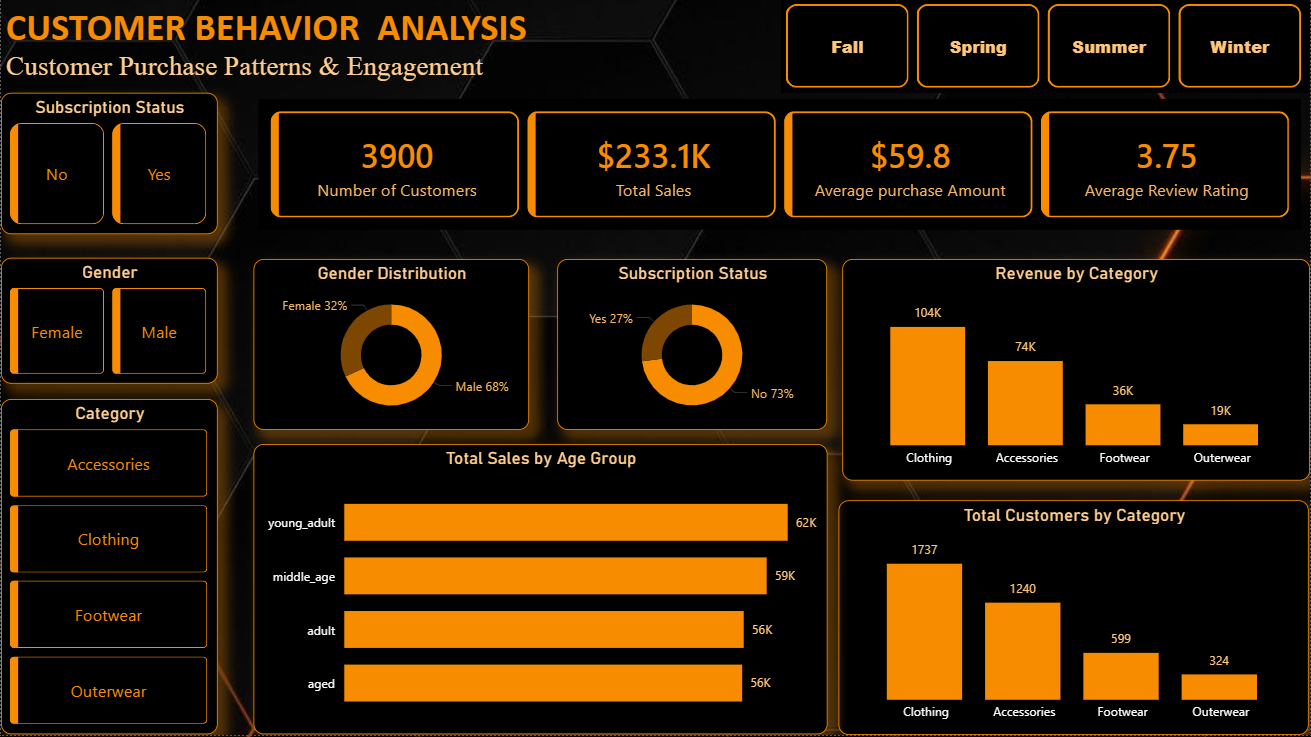

Layout of this report page (visuals, bound fields, positions):
{"tool":"powerbi","page":{"name":"Page 1","canvas":[1280,720],"ordinal":0},"visuals":[{"type":"shape","box":[0,0,533.3,91.7],"z":0},{"type":"textbox","box":[0,0,534,92],"z":1000},{"type":"cardVisual","fields":{"Data":["customer_behavior customer.Number of Customers","customer_behavior customer.Total Sales","customer_behavior customer.Average purchase Amount","customer_behavior customer.Average Review Rating"]},"box":[246.7,92.3,1033,138.5],"z":2000},{"type":"donutChart","title":"Subscription Status","fields":{"Category":["customer_behavior customer.subscription_status"],"Y":["CountNonNull(customer_behavior customer.customer_id)"]},"box":[543.9,253.9,264,167.4],"z":3000},{"type":"donutChart","title":"Gender Distribution","fields":{"Y":["CountNonNull(customer_behavior customer.customer_id)"],"Category":["customer_behavior customer.gender"]},"box":[246.7,253.9,269.8,167.4],"z":4000},{"type":"clusteredColumnChart","title":"Revenue by Category","fields":{"Y":["Sum(customer_behavior customer.purchase_amount)"],"Category":["customer_behavior customer.category"]},"box":[822.4,253.9,457.4,216.4],"z":5000},{"type":"clusteredColumnChart","title":"Total Customers by Category","fields":{"Category":["customer_behavior customer.category"],"Y":["CountNonNull(customer_behavior customer.customer_id)"]},"box":[819.5,490.5,460.2,229.4],"z":6000},{"type":"advancedSlicerVisual","title":"Subscription Status","fields":{"Values":["customer_behavior customer.subscription_status"]},"box":[0,91.7,211.7,138.3],"z":7000},{"type":"advancedSlicerVisual","title":"Gender","fields":{"Values":["customer_behavior customer.gender"]},"box":[0,253.3,211.7,123.3],"z":8000},{"type":"advancedSlicerVisual","title":"Category","fields":{"Values":["customer_behavior customer.category"]},"box":[0,391.7,211.7,328.3],"z":9000},{"type":"clusteredBarChart","title":"Total Sales by Age Group","fields":{"Category":["customer_behavior customer.age_group"],"Y":["customer_behavior customer.Total Sales"]},"box":[246.7,435.7,561.2,284.2],"z":10000},{"type":"advancedSlicerVisual","fields":{"Values":["customer_behavior customer.season"]},"box":[763.2,0,516.5,92.3],"z":11000}]}

Visuals, with their boxes in screenshot pixels (x1, y1, x2, y2), scaled from the page's 1280x720 canvas onto the 1311x737 screenshot:
shape: (x1=0, y1=0, x2=546, y2=94)
textbox: (x1=0, y1=0, x2=547, y2=94)
cardVisual - customer_behavior customer.Number of Customers x customer_behavior customer.Total Sales: (x1=253, y1=94, x2=1310, y2=236)
"Subscription Status" donutChart: (x1=557, y1=260, x2=827, y2=431)
"Gender Distribution" donutChart: (x1=253, y1=260, x2=529, y2=431)
"Revenue by Category" clusteredColumnChart: (x1=842, y1=260, x2=1310, y2=481)
"Total Customers by Category" clusteredColumnChart: (x1=839, y1=502, x2=1310, y2=736)
"Subscription Status" advancedSlicerVisual: (x1=0, y1=94, x2=217, y2=235)
"Gender" advancedSlicerVisual: (x1=0, y1=259, x2=217, y2=385)
"Category" advancedSlicerVisual: (x1=0, y1=401, x2=217, y2=736)
"Total Sales by Age Group" clusteredBarChart: (x1=253, y1=446, x2=827, y2=736)
advancedSlicerVisual - customer_behavior customer.season: (x1=782, y1=0, x2=1310, y2=94)
